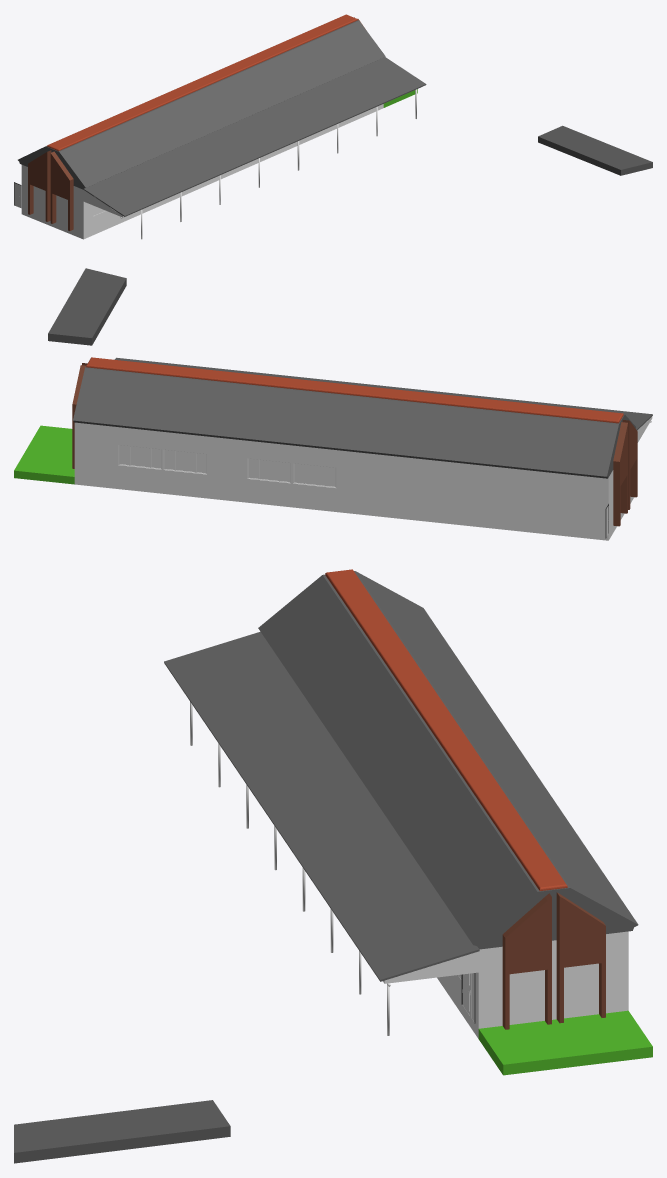
3 renders of one model, top to bottom at view 1: azimuth 30°, elevation 25°; view 2: azimuth 150°, elevation 25°; view 3: azimuth 270°, elevation 25°, orthographic. The views are drawn at different scales.
Visible parts, largest first — view 1: Cube.166, Plane.139, Cube.138, Circle.181, Cube.132, Cube.136, Plane.272, Plane.111, Cylinder.011; view 2: Cube.166, Cube.132, Cube.138, Cube.136, Circle.181, Plane.059, Circle.234, Plane.111, Plane.139, Plane.272, Cube.152; view 3: Cube.166, Plane.139, Cube.138, Circle.181, Cube.132, Circle.234, Plane.272, Plane.111, Cube.164, Cylinder.011.
Part boxes in pixels (box(x1,y1,x2,y2)): Cube.166: box(18, 20, 385, 189); Plane.139: box(83, 57, 426, 216); Cube.138: box(47, 14, 357, 151); Circle.181: box(538, 125, 652, 175); Cube.132: box(21, 165, 120, 233); Cube.136: box(21, 104, 383, 239); Plane.272: box(28, 152, 69, 230); Plane.111: box(30, 17, 364, 230); Cylinder.011: box(120, 87, 420, 239); Cube.166: box(73, 367, 635, 478); Cube.132: box(74, 422, 613, 532); Cube.138: box(86, 357, 623, 423); Cube.136: box(74, 477, 633, 540); Circle.181: box(48, 268, 126, 345); Plane.059: box(119, 445, 335, 486); Circle.234: box(14, 425, 74, 484); Plane.111: box(72, 363, 636, 526); Plane.139: box(114, 357, 652, 430); Plane.272: box(620, 421, 637, 525); Cube.152: box(118, 445, 336, 487); Cube.166: box(258, 571, 638, 949); Plane.139: box(164, 631, 479, 981); Cube.138: box(325, 569, 567, 890); Circle.181: box(14, 1100, 230, 1163); Cube.132: box(443, 931, 628, 1028); Circle.234: box(478, 1010, 652, 1075); Plane.272: box(505, 896, 605, 1029); Plane.111: box(502, 892, 605, 1028); Cube.164: box(383, 951, 479, 983); Cylinder.011: box(190, 702, 390, 1035).
Bounding box in the file's own units: 280 × 40.46 × 164.
